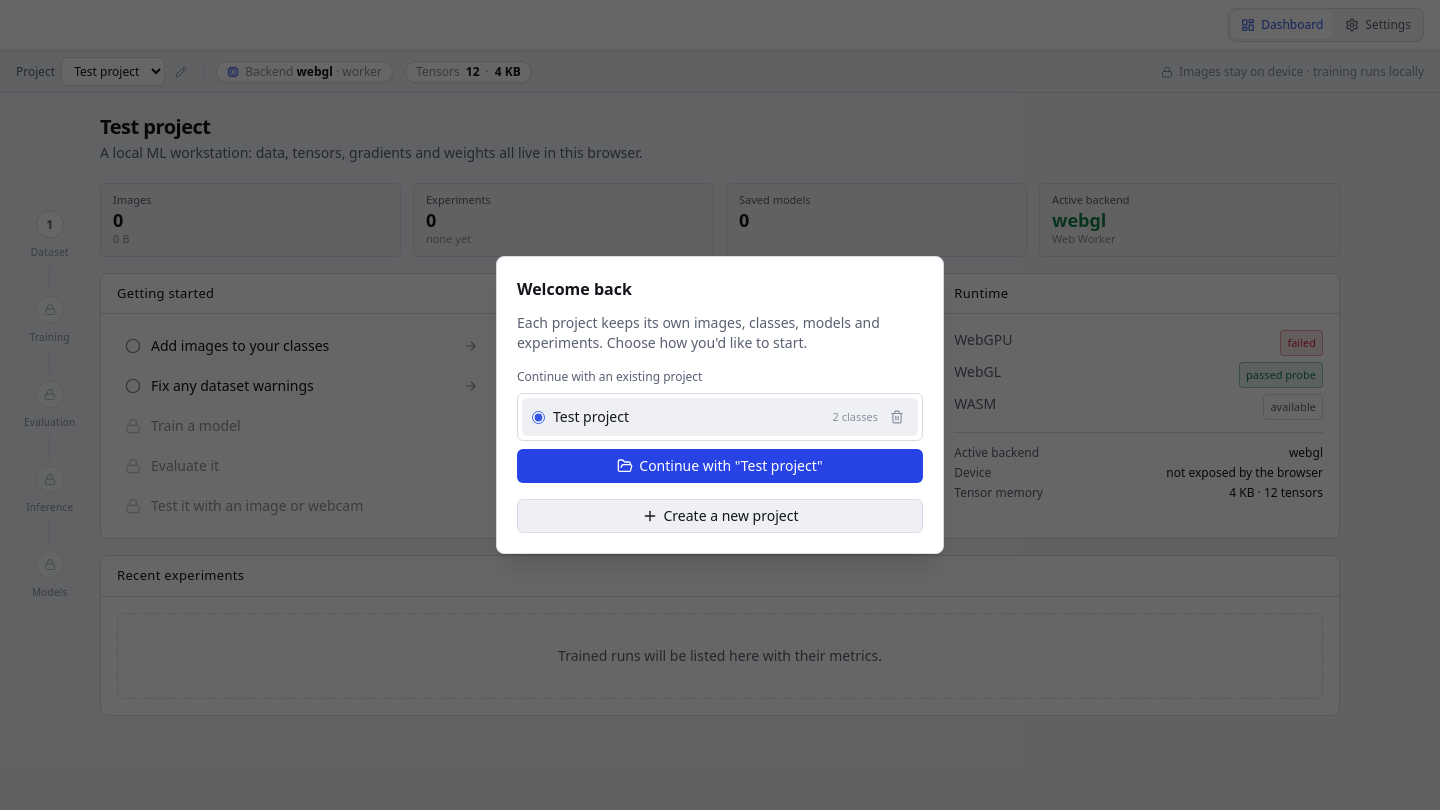
dataset ingestion rules › rejects corrupted/blank images, exact duplicates and cross-class label conflicts; warns on near-duplicates
Expected: the heading "Test project" is shown, [100, 113, 210, 140]
Click the button "Continue with \"Test project\"" at (720, 466), box [517, 449, 923, 483]
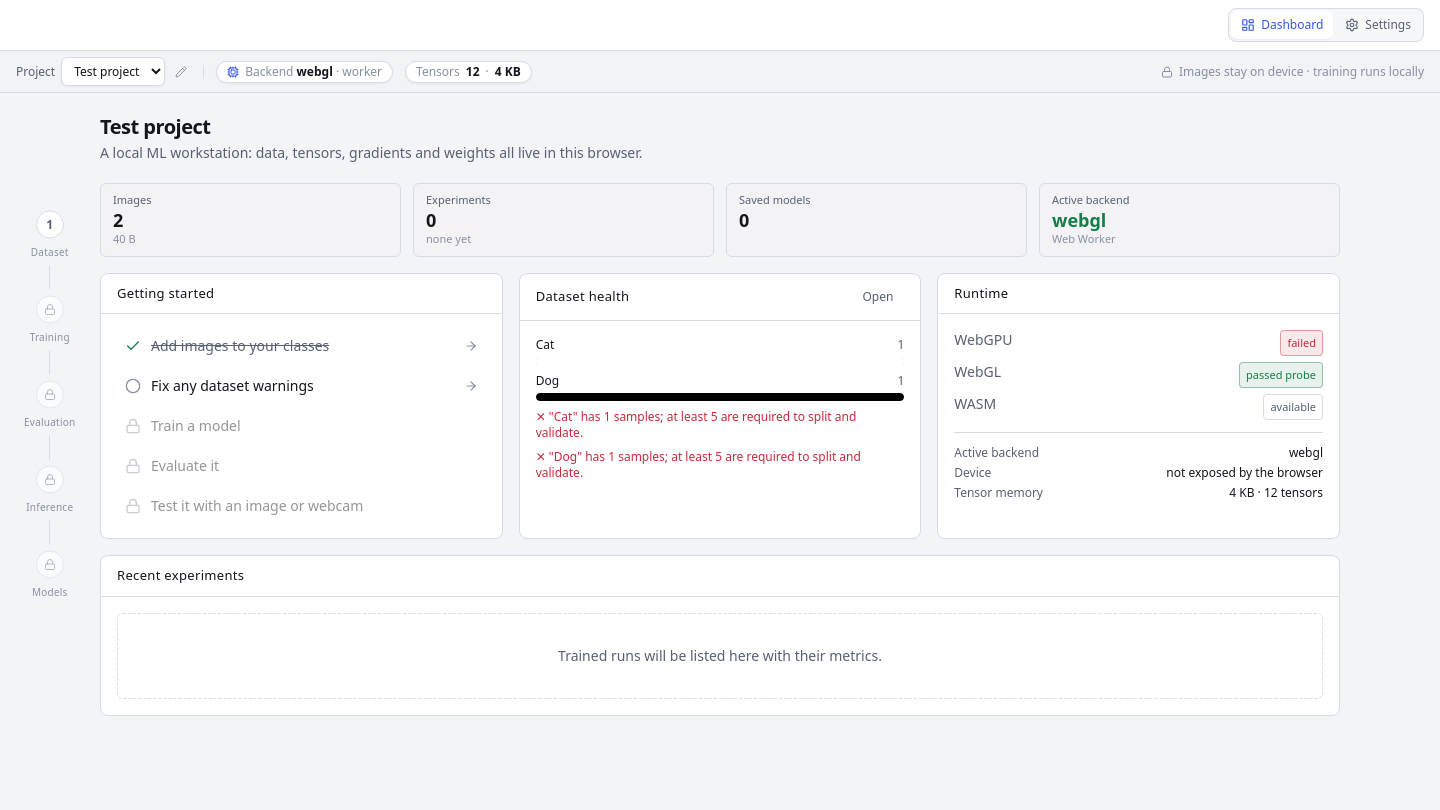
Now the dialog is gone
